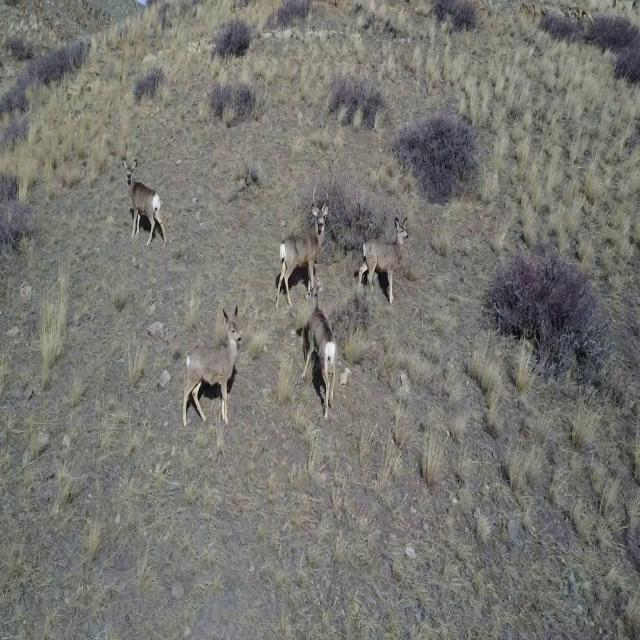Deer: (182, 305, 244, 427), (274, 186, 332, 311), (358, 215, 409, 307), (302, 304, 340, 420), (122, 153, 166, 245)
